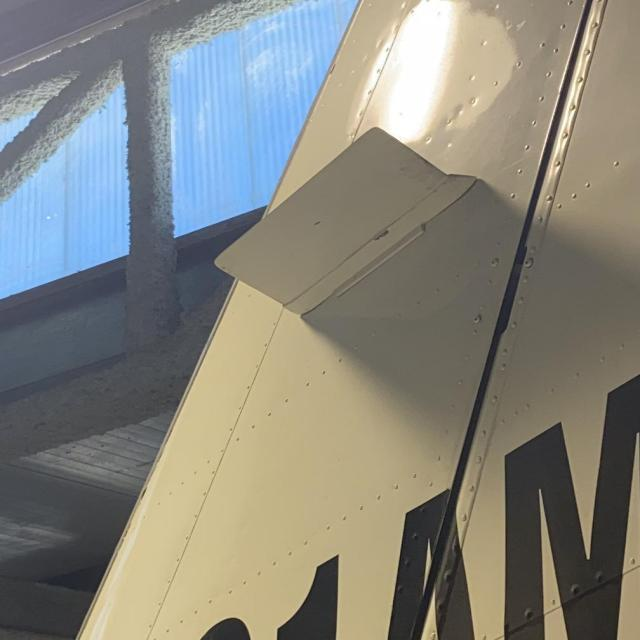Paint-off: (371, 227, 390, 242), (313, 220, 325, 226)
